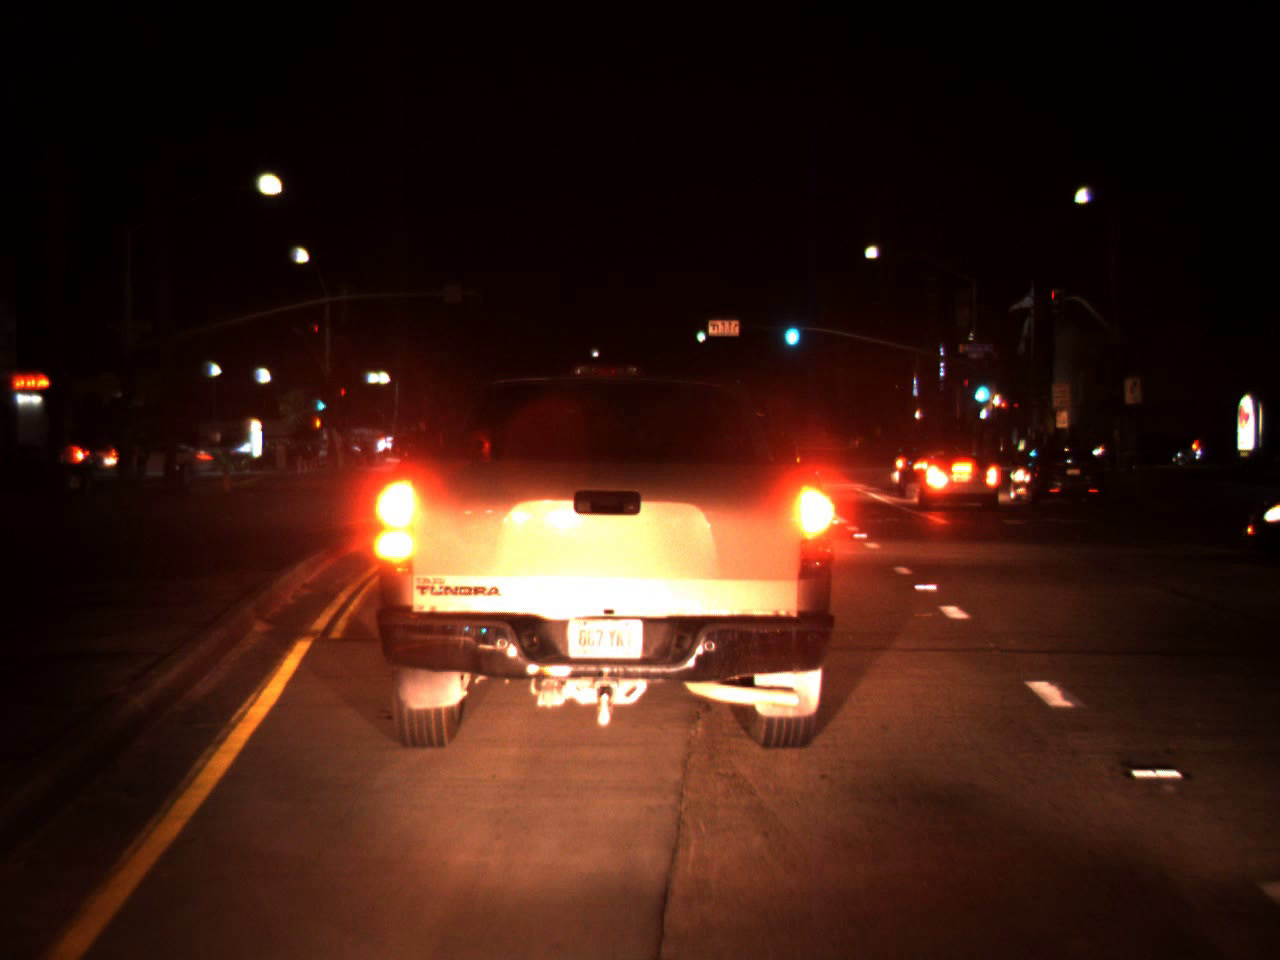go: (969, 366, 994, 408), (779, 306, 802, 351), (694, 319, 706, 346), (315, 390, 325, 414)
